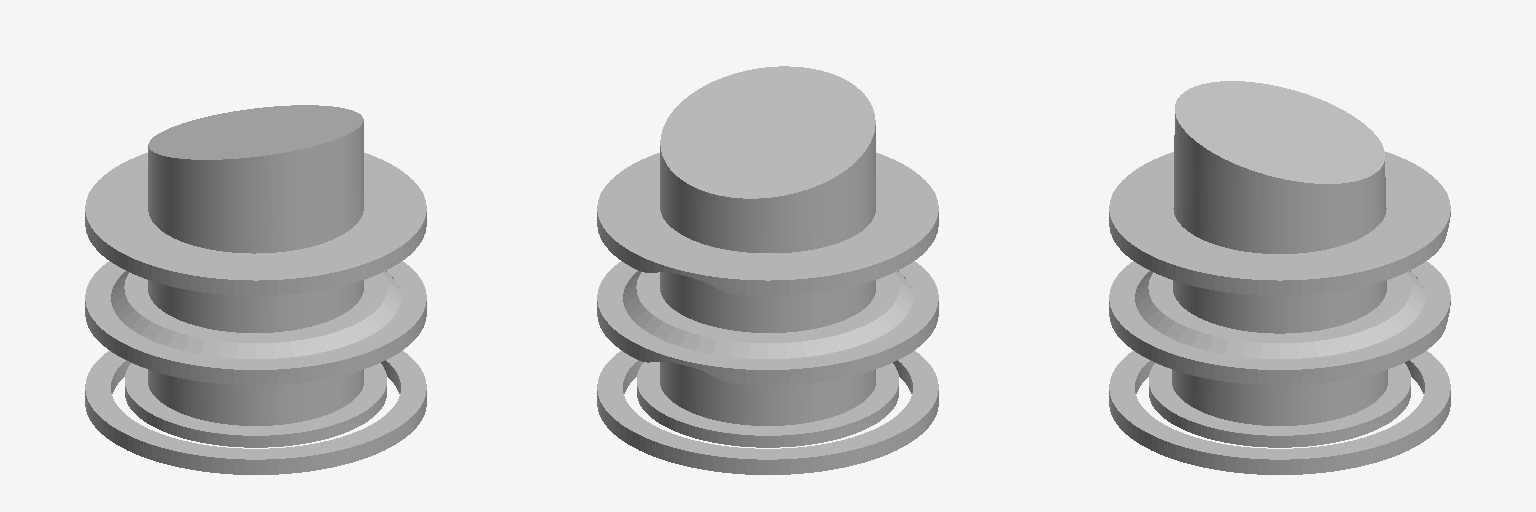
The model's file is level.obj.
The picture shows the model from 3 angles: view 1: azimuth 30°, elevation 25°; view 2: azimuth 150°, elevation 25°; view 3: azimuth 270°, elevation 25°; orthographic projection.
Visible parts, largest first — view 1: INNER, OUTER1.001, OUTER0, OUTER1, Cylinder, INNER0; view 2: INNER, OUTER1.001, OUTER0, OUTER1, Cylinder, INNER0; view 3: INNER, OUTER1.001, OUTER0, OUTER1, Cylinder, INNER0.
Part boxes in pixels (x1,y1,x2,y2): INNER: (148, 105, 363, 425); OUTER1.001: (85, 153, 426, 295); OUTER0: (85, 350, 426, 474); OUTER1: (85, 261, 426, 385); Cylinder: (111, 271, 400, 358); INNER0: (125, 363, 386, 447); INNER: (660, 66, 875, 425); OUTER1.001: (597, 153, 938, 295); OUTER0: (597, 350, 938, 474); OUTER1: (597, 261, 938, 385); Cylinder: (623, 271, 912, 358); INNER0: (637, 362, 898, 447); INNER: (1172, 81, 1387, 425); OUTER1.001: (1109, 152, 1450, 295); OUTER0: (1109, 350, 1450, 474); OUTER1: (1109, 261, 1450, 385); Cylinder: (1135, 271, 1424, 358); INNER0: (1149, 363, 1410, 447).
Size of the model in its own units: 41.48 by 39.4 by 41.48.